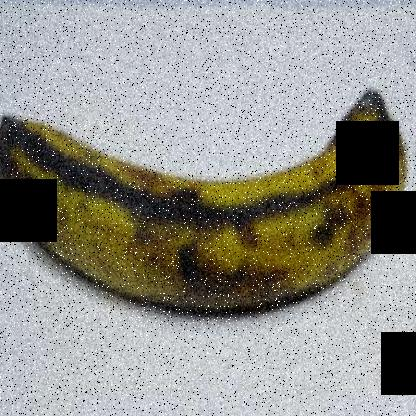overripe: (1, 68, 396, 310)
